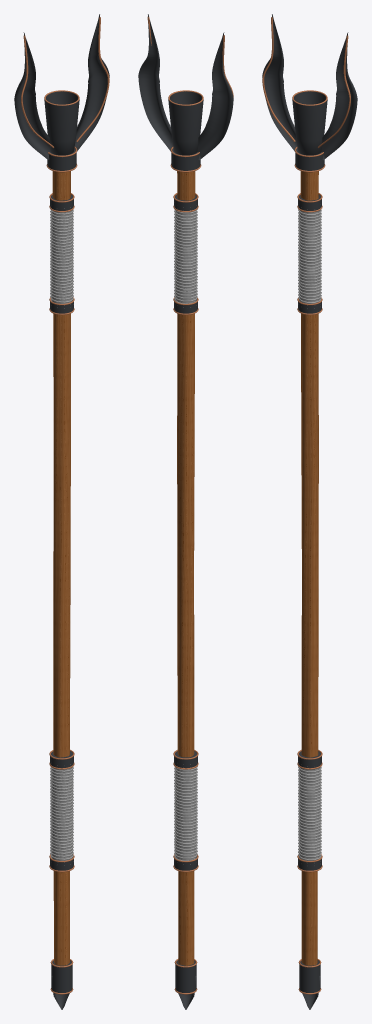
File: teak_staff.glb
3 renders of one model, left to right at view 1: azimuth 30°, elevation 25°; view 2: azimuth 150°, elevation 25°; view 3: azimuth 330°, elevation 25°, orthographic.
Visible parts, largest first — view 1: teak oiled carved wood, Cindersteel fittings, teak dark hand binding, teak worn fitting edges; view 2: teak oiled carved wood, Cindersteel fittings, teak dark hand binding, teak worn fitting edges; view 3: teak oiled carved wood, Cindersteel fittings, teak dark hand binding, teak worn fitting edges.
Boxes of the visible parts, x1,y1,x2,y2 form: teak oiled carved wood: (52, 171, 70, 965); Cindersteel fittings: (14, 14, 109, 1009); teak dark hand binding: (50, 207, 73, 865); teak worn fitting edges: (21, 17, 109, 994); teak oiled carved wood: (177, 171, 195, 965); Cindersteel fittings: (138, 14, 233, 1009); teak dark hand binding: (174, 202, 197, 864); teak worn fitting edges: (147, 17, 233, 994); teak oiled carved wood: (300, 171, 318, 965); Cindersteel fittings: (262, 14, 357, 1009); teak dark hand binding: (298, 207, 321, 866); teak worn fitting edges: (262, 17, 350, 994).
Size of the model in its own units: 0.204 by 2.02 by 0.066.
Materials: 4 (2 with a texture image).
